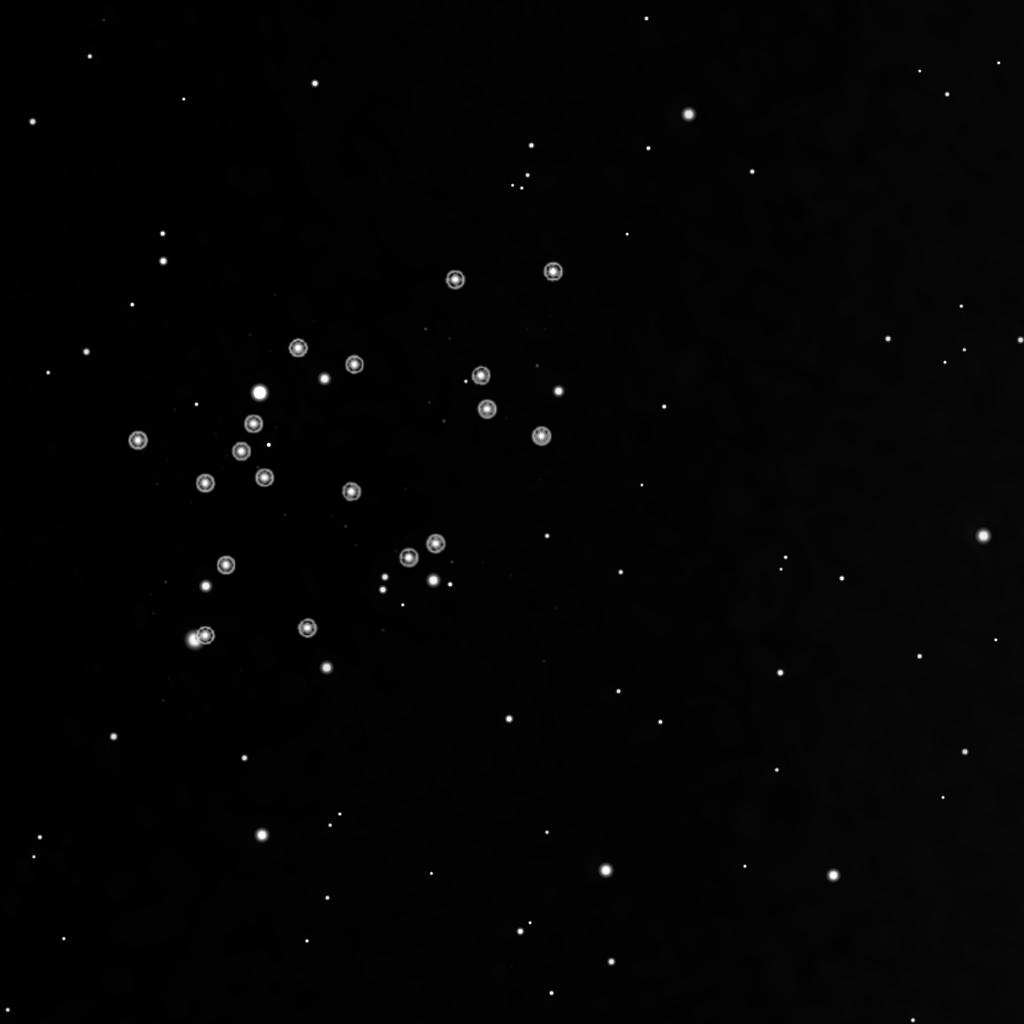canis_major: (190, 332, 369, 500)
